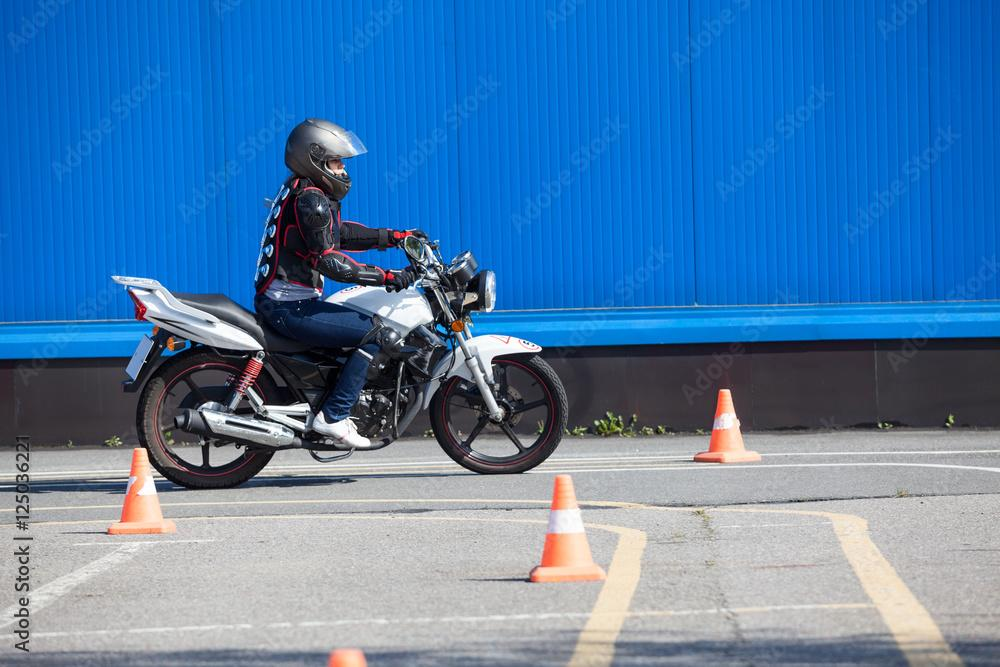helmet: (284, 117, 368, 201)
